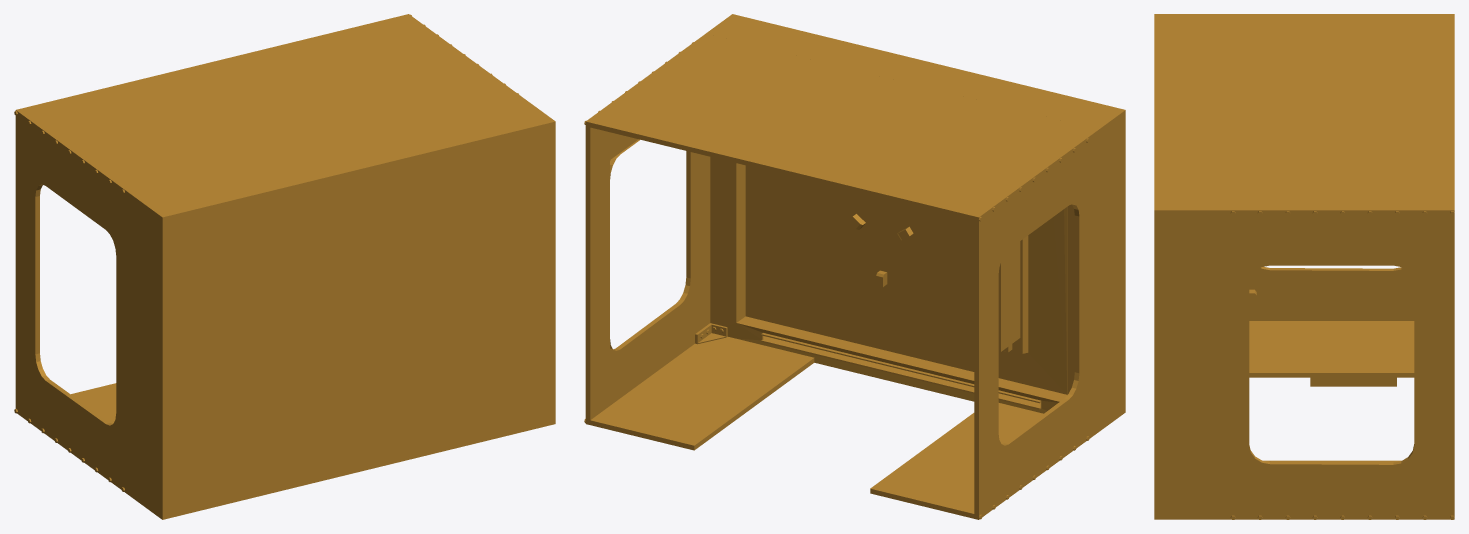
3 renders of one model, left to right at view 1: azimuth 30°, elevation 25°; view 2: azimuth 150°, elevation 25°; view 3: azimuth 270°, elevation 25°, orthographic. The views are drawn at different scales.
Parts seen in each view (by area): view 1: Plane_001, Plane; view 2: Plane, Plane_001, Plane_002; view 3: Plane, Plane_001.
Part boxes in pixels (left/top/right/bottom): Plane_001: left=135, top=102, right=555, bottom=519; Plane: left=14, top=14, right=528, bottom=499; Plane: left=584, top=33, right=1098, bottom=519; Plane_001: left=706, top=14, right=1125, bottom=431; Plane_002: left=765, top=170, right=1020, bottom=352; Plane: left=1209, top=14, right=1454, bottom=519; Plane_001: left=1154, top=14, right=1209, bottom=519.
Size of the model in its own units: 5.14 by 3.3 by 3.98.
